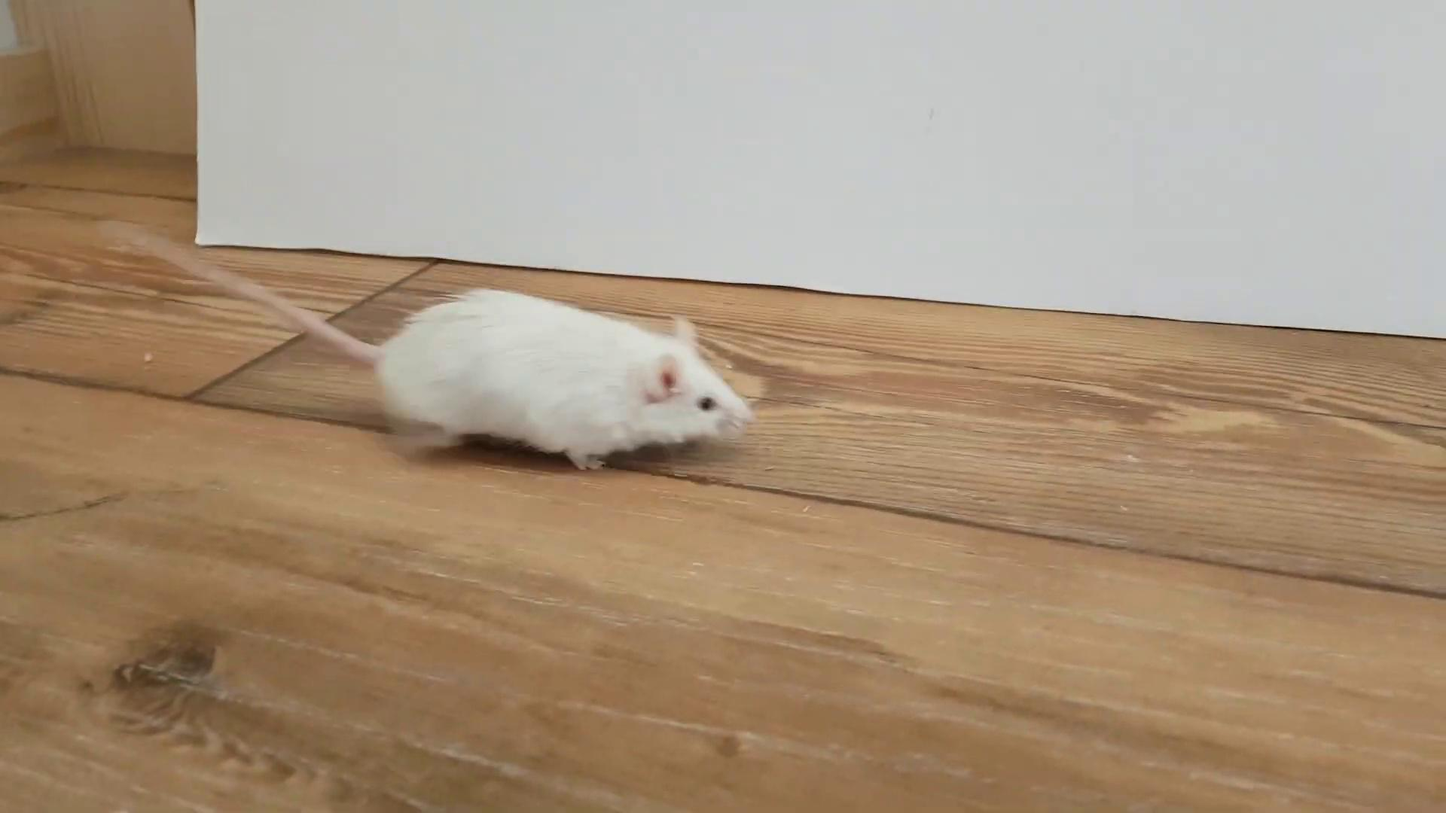rat: (138, 234, 754, 470)
